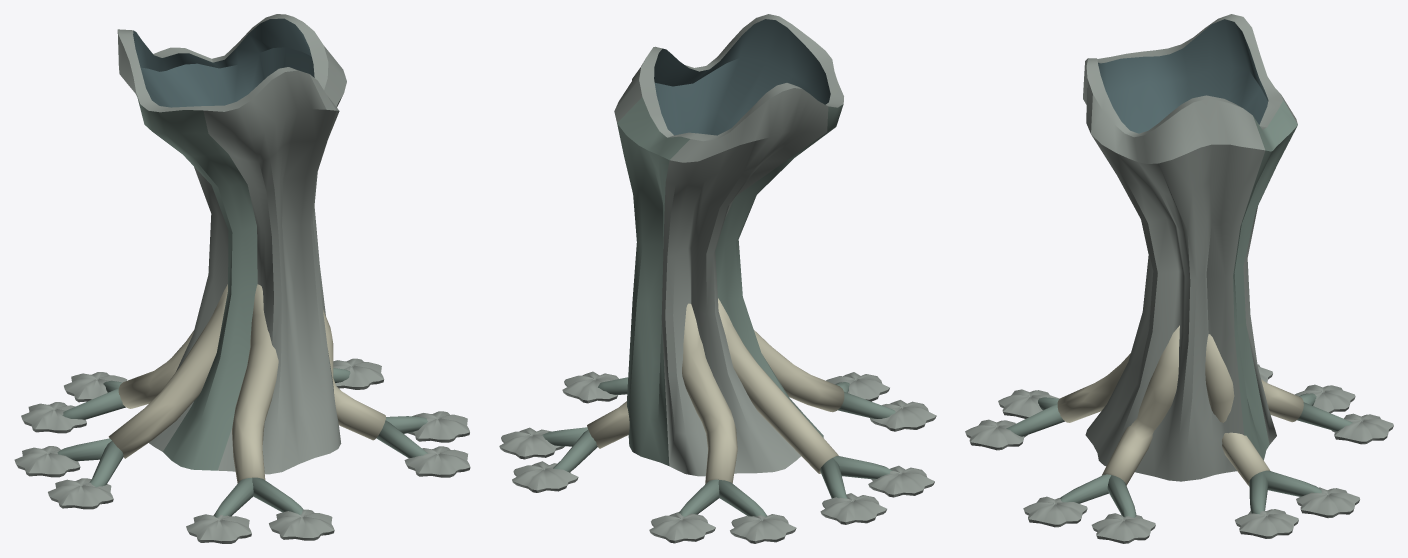
Rendered from spore_chimney_stalk_lod2.glb.
The picture shows the model from 3 angles, left to right: view 1: azimuth 30°, elevation 25°; view 2: azimuth 150°, elevation 25°; view 3: azimuth 270°, elevation 25°; orthographic projection. The views are drawn at different scales.
Parts seen in each view (by area): view 1: LOD2_tissue, LOD2_tissue_mature, LOD2_calcite, LOD2_tissue_fold; view 2: LOD2_tissue, LOD2_tissue_mature, LOD2_calcite, LOD2_tissue_fold; view 3: LOD2_tissue, LOD2_tissue_mature, LOD2_tissue_fold, LOD2_calcite.
Boxes of the visible parts, x1,y1,x2,y2 form: LOD2_tissue: [14, 14, 470, 543]; LOD2_tissue_mature: [57, 95, 427, 517]; LOD2_calcite: [108, 284, 385, 483]; LOD2_tissue_fold: [133, 18, 314, 107]; LOD2_tissue: [499, 14, 936, 543]; LOD2_tissue_mature: [542, 97, 895, 516]; LOD2_calcite: [587, 298, 844, 484]; LOD2_tissue_fold: [654, 19, 830, 135]; LOD2_tissue: [965, 14, 1393, 543]; LOD2_tissue_mature: [1006, 100, 1352, 517]; LOD2_tissue_fold: [1098, 19, 1268, 133]; LOD2_calcite: [1057, 325, 1303, 485].
Bounding box in the file's own units: 2.74 × 2.8 × 2.73.
